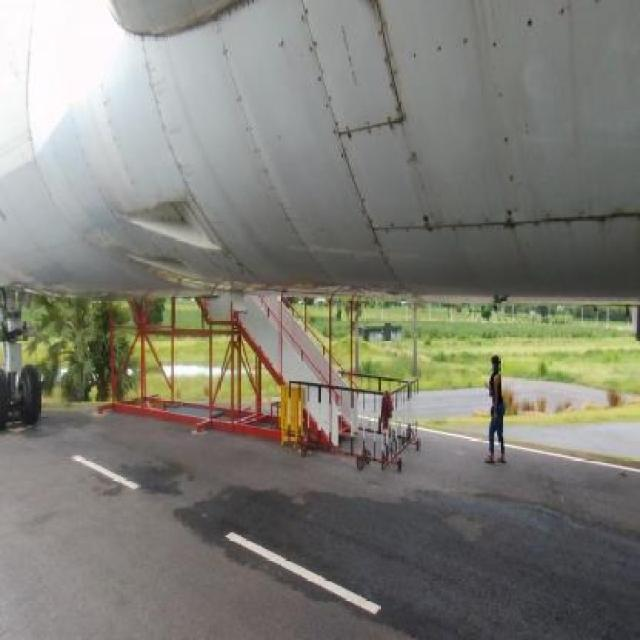Missing-Rivet: (305, 23, 360, 195), (482, 29, 530, 211), (430, 30, 570, 64)
Rust: (487, 207, 635, 287), (370, 5, 415, 140), (405, 144, 450, 238)
